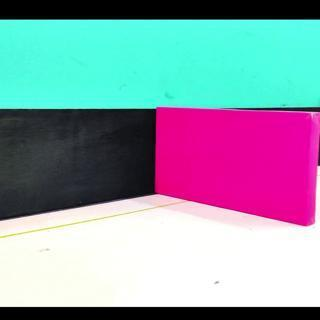xparking: (160, 120, 306, 224)
